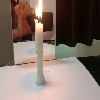fire: (37, 0, 42, 20)
